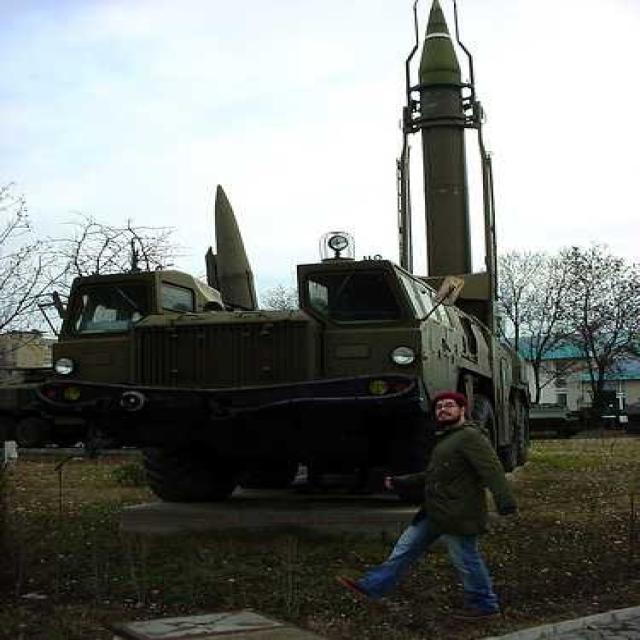missile: (399, 0, 507, 293)
